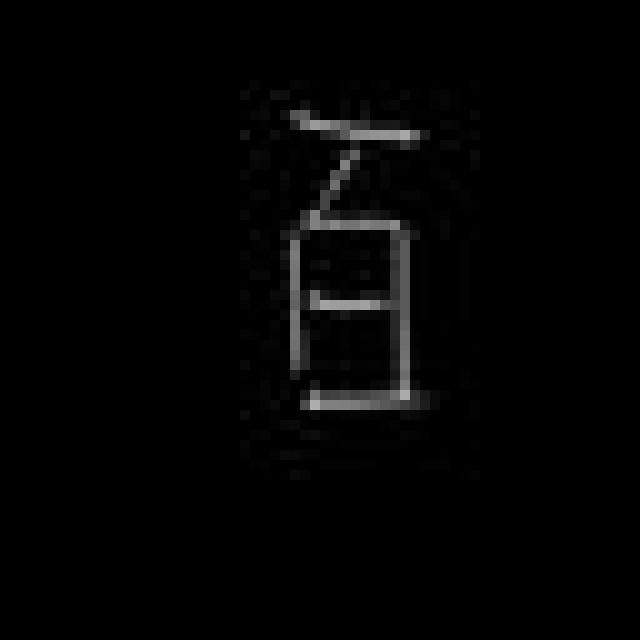100 -a hundred-: (249, 94, 438, 436)
